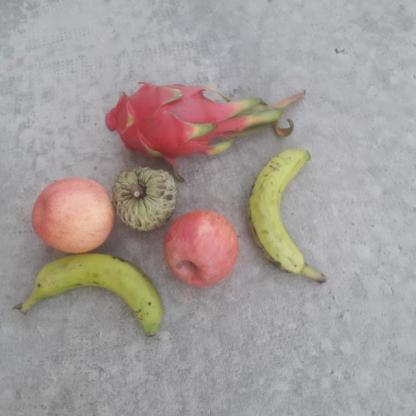annona: (110, 165, 177, 233)
apple: (162, 205, 240, 288), (32, 175, 114, 250)
banana: (246, 148, 338, 286), (32, 254, 166, 340)
pitaya: (106, 82, 244, 166)
